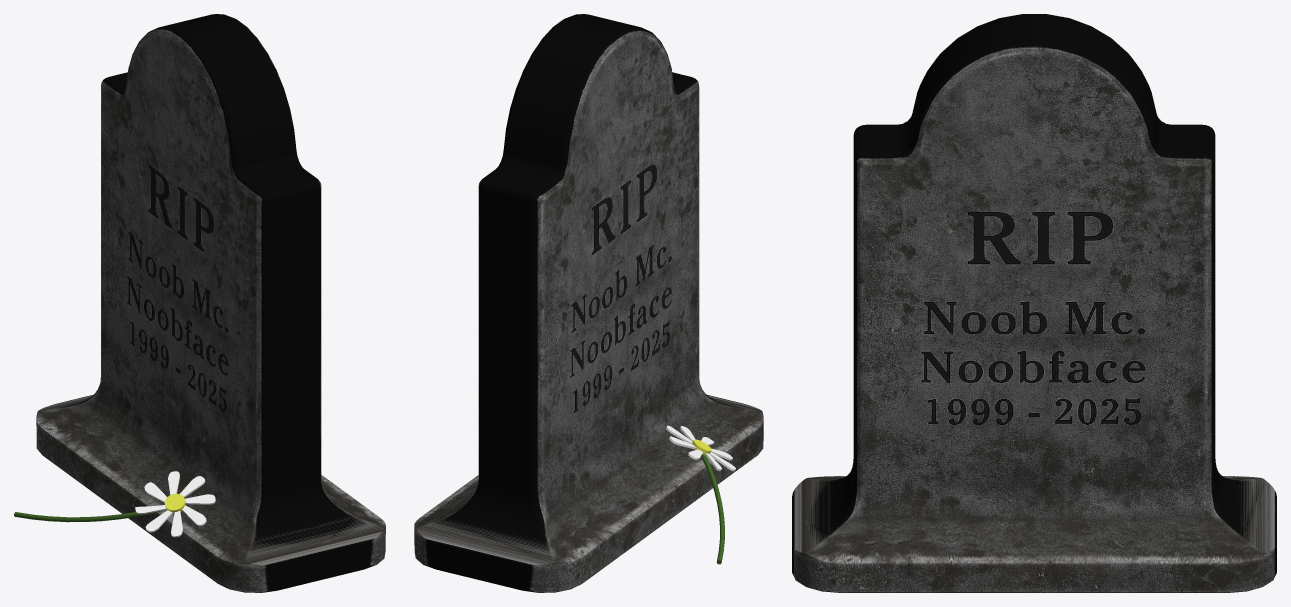
Rendered from peeko_deathtombstone.fbx.
3 views of the same model, side by side, from view 1: azimuth 30°, elevation 25°; view 2: azimuth 150°, elevation 25°; view 3: azimuth 270°, elevation 25° (orthographic). The views are drawn at different scales.
Parts seen in each view (by area): view 1: map_tombstone, map_flowerpetal, map_flowerstem; view 2: map_tombstone, map_flowerpetal, map_flowerstem; view 3: map_tombstone.
Part boxes in pixels (x1,y1,x2,y2): map_tombstone: [36, 14, 385, 592]; map_flowerpetal: [135, 471, 215, 537]; map_flowerstem: [14, 510, 166, 522]; map_tombstone: [414, 14, 763, 592]; map_flowerpetal: [666, 425, 735, 471]; map_flowerstem: [701, 454, 724, 564]; map_tombstone: [792, 14, 1276, 592].
Bounding box in the file's own units: 21.46 × 39.36 × 33.16.
1 material, 1 textured.
